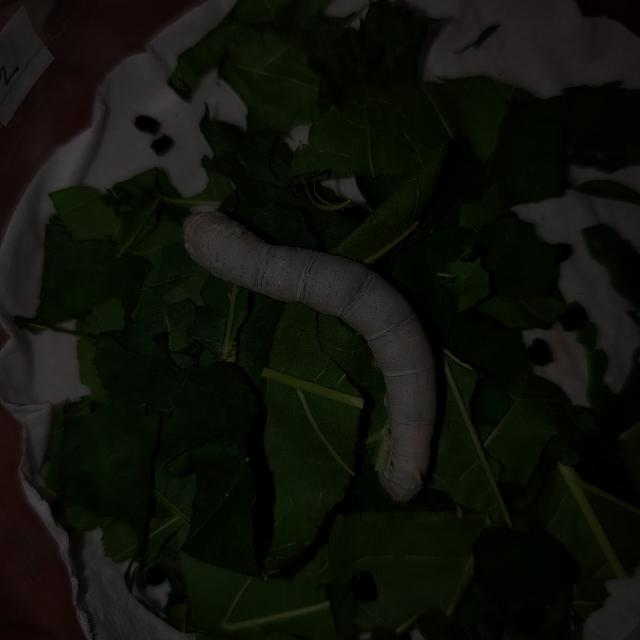Healthy: (172, 197, 450, 509)
